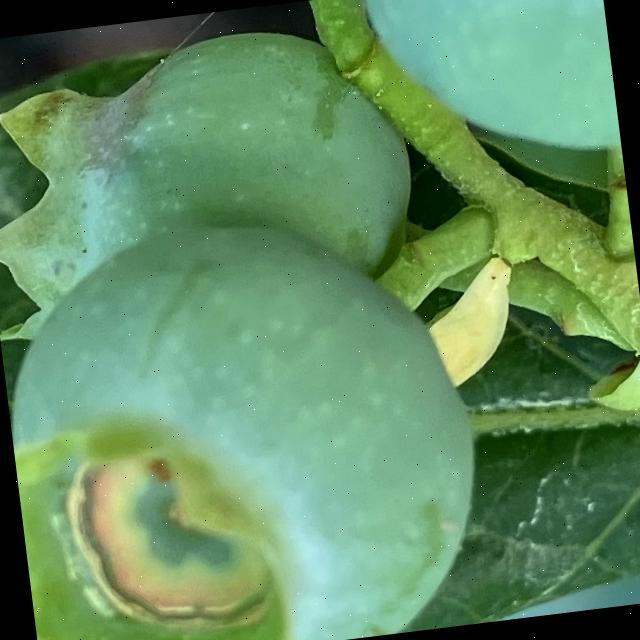Blueberries: (0, 187, 497, 640)
